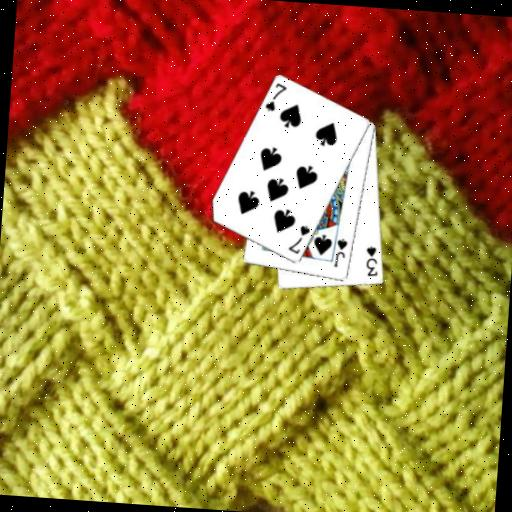3S: (362, 243, 382, 278)
7S: (262, 79, 289, 114), (286, 221, 312, 257)
JS: (331, 235, 350, 270)
